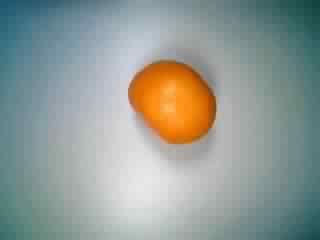orange: (125, 57, 219, 143)
